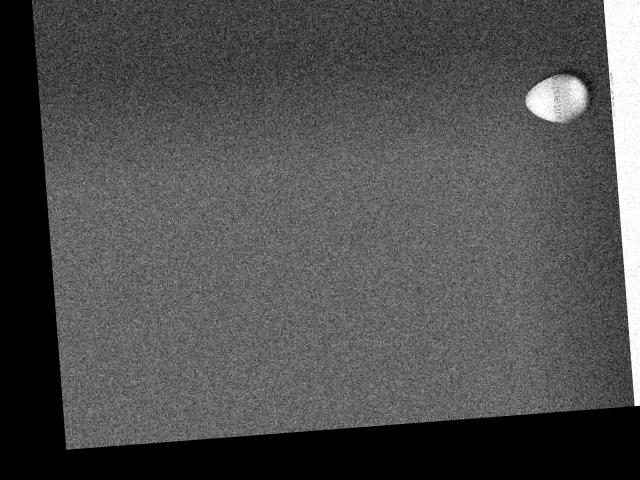egg: (522, 71, 590, 126)
